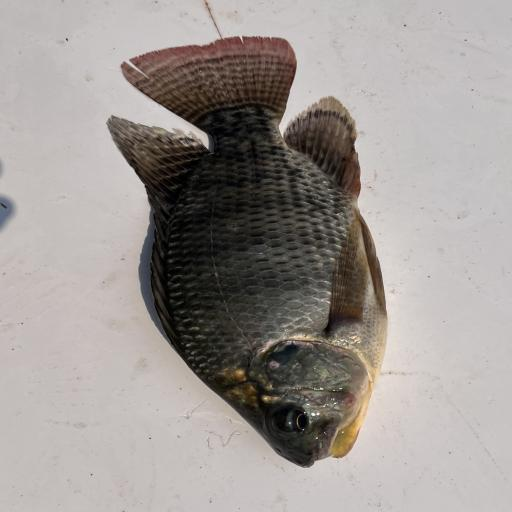Tilapia: (106, 36, 389, 468)
